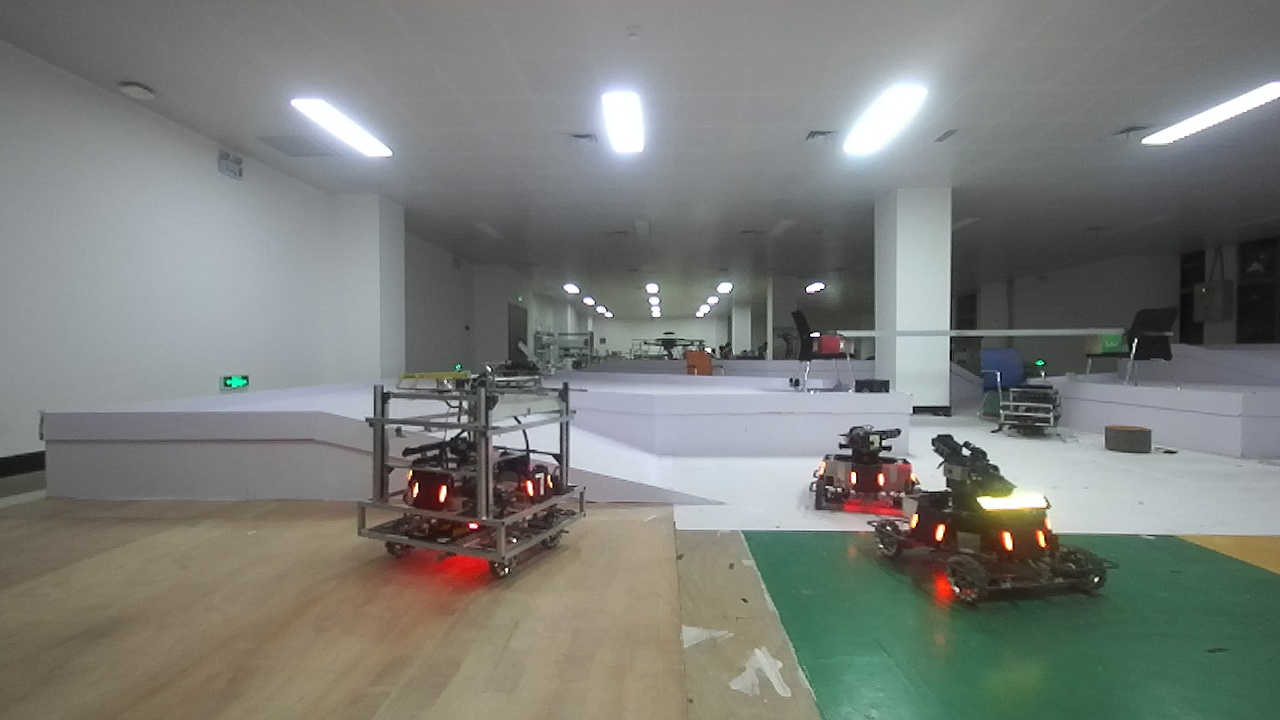car: (362, 354, 583, 576), (873, 429, 1115, 610), (809, 412, 913, 523)
